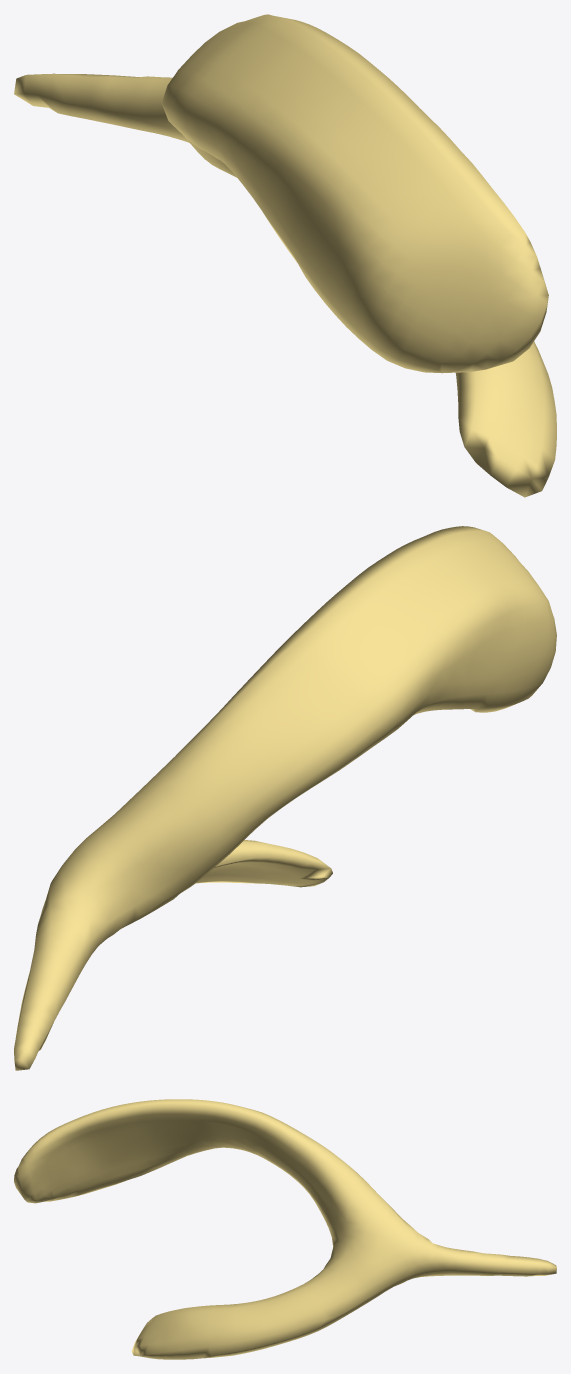
3 views of the same model, one above another, from view 1: azimuth 30°, elevation 25°; view 2: azimuth 150°, elevation 25°; view 3: azimuth 270°, elevation 25° (orthographic). The views are drawn at different scales.
Parts seen in each view (by area): view 1: ZA_36a3f1ce4c800532; view 2: ZA_36a3f1ce4c800532; view 3: ZA_36a3f1ce4c800532.
Boxes of the visible parts, x1,y1,x2,y2 form: ZA_36a3f1ce4c800532: [14, 14, 556, 497]; ZA_36a3f1ce4c800532: [14, 526, 556, 1070]; ZA_36a3f1ce4c800532: [14, 1099, 556, 1359].
Size of the model in its own units: 0.0374 by 0.0472 by 0.1059.
